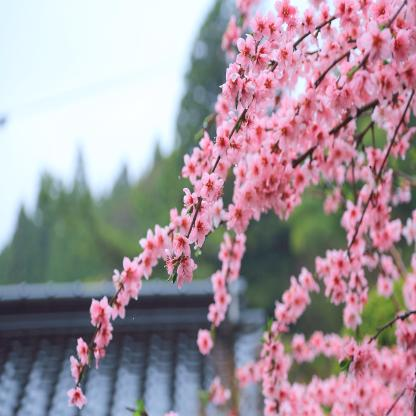Momo: (66, 0, 416, 416)
